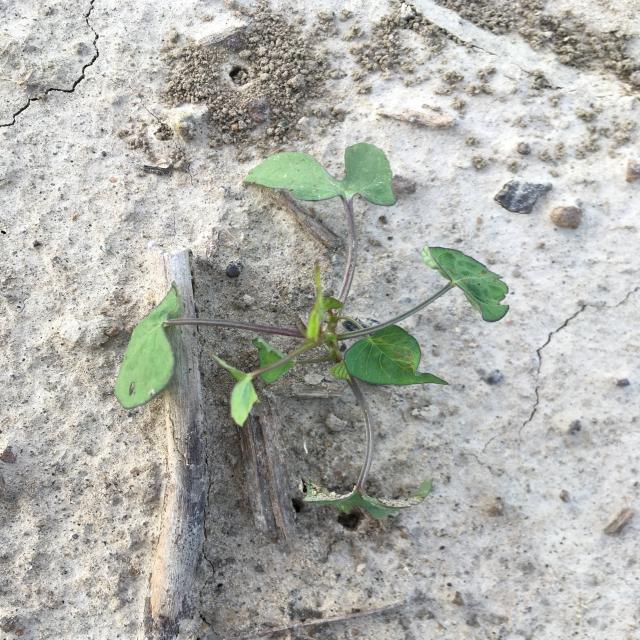MorningGlory: (115, 143, 512, 522)
